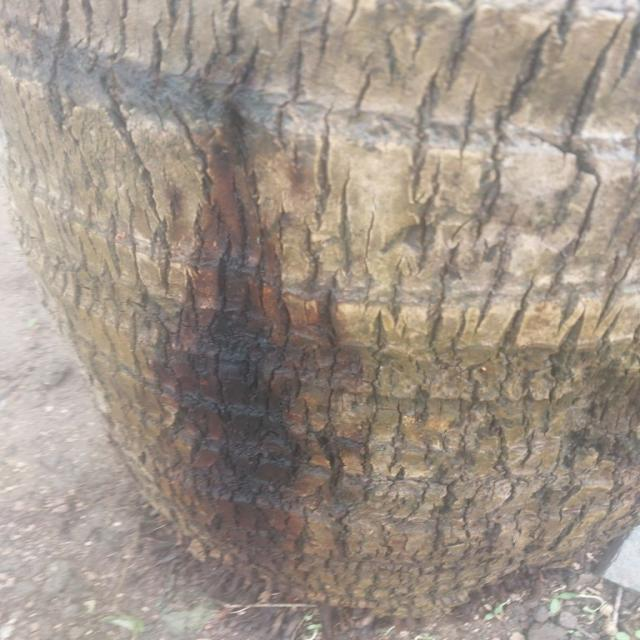stembleeding: (158, 45, 358, 591)
